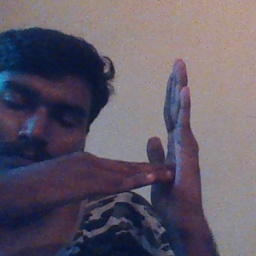Z: (78, 54, 219, 252)
